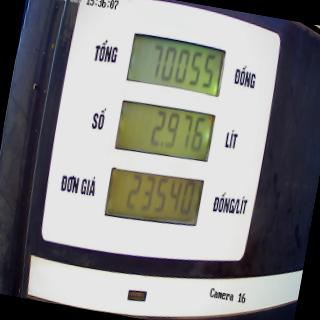screen: (99, 27, 230, 238)
